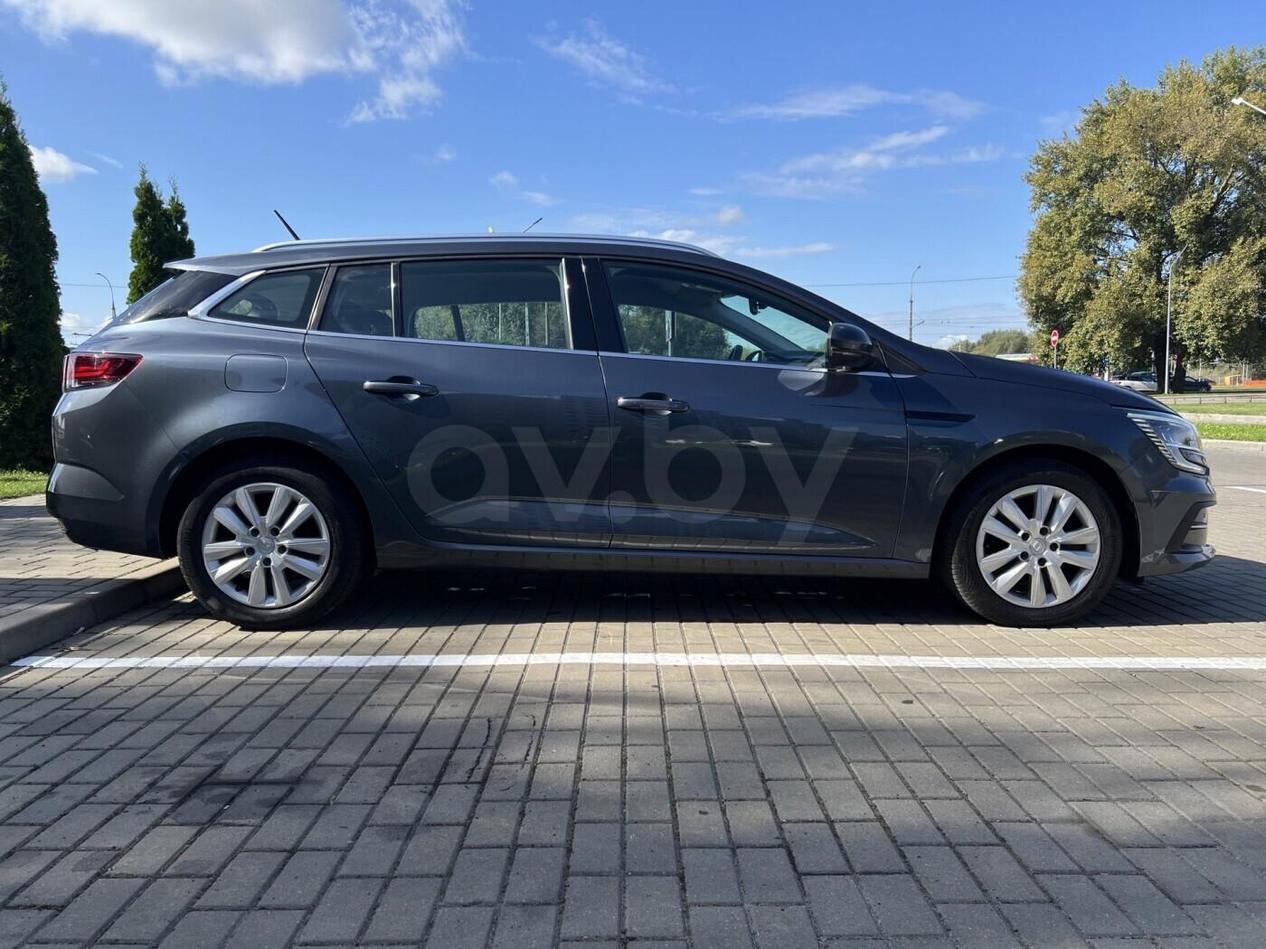Megane_2020: (48, 236, 1214, 637)
